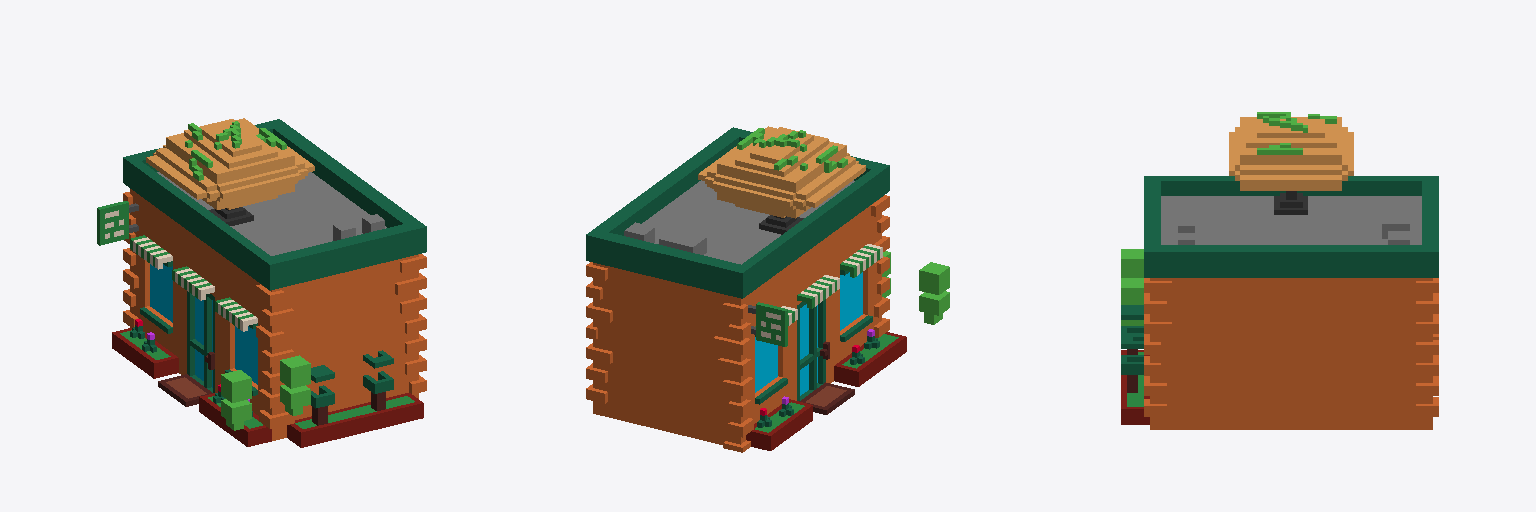
3 renders of one model, left to right at view 1: azimuth 30°, elevation 25°; view 2: azimuth 150°, elevation 25°; view 3: azimuth 270°, elevation 25°, orthographic.
Parts seen in each view (by area): view 1: object 1; view 2: object 1; view 3: object 1.
Part boxes in pixels (x1,y1,x2,y2): object 1: (97,118,426,447); object 1: (586,126,949,452); object 1: (1121,112,1438,429).
Bounding box in the file's own units: 4.2 × 4.9 × 5.6.
1 materials, 1 textured.